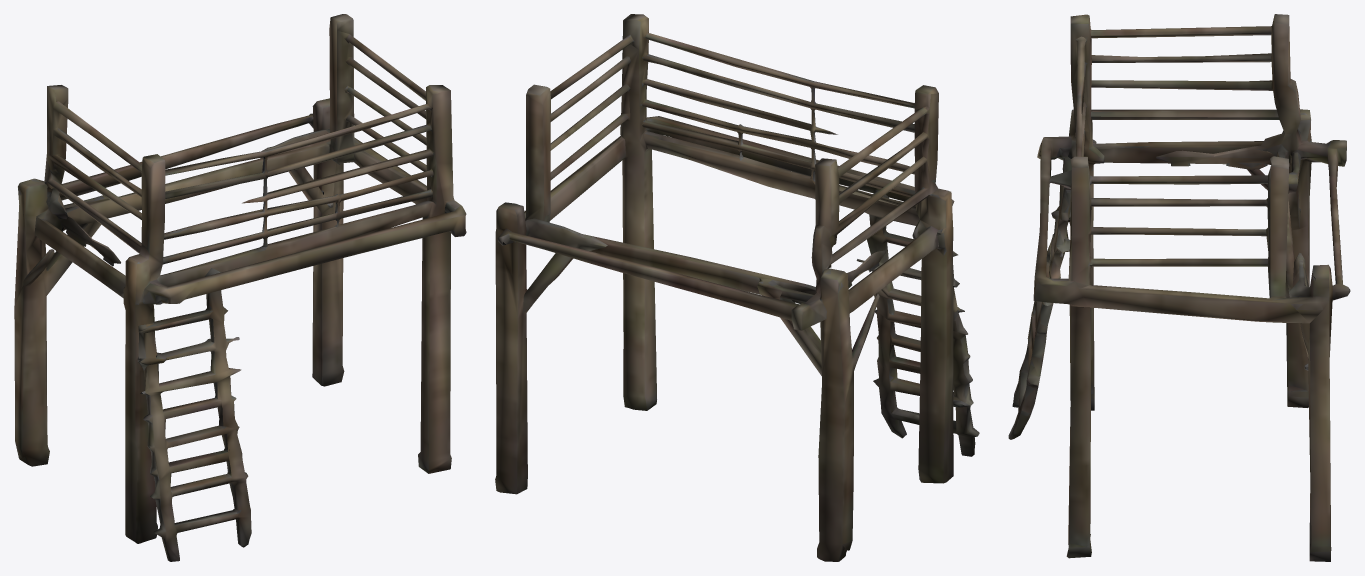
The model's file is simple-wood-scaffold-tower-v004.glb.
3 views of the same model, side by side, from view 1: azimuth 30°, elevation 25°; view 2: azimuth 150°, elevation 25°; view 3: azimuth 270°, elevation 25° (orthographic). The views are drawn at different scales.
Parts seen in each view (by area): view 1: simple-wood-scaffold-tower; view 2: simple-wood-scaffold-tower; view 3: simple-wood-scaffold-tower.
Part boxes in pixels (x1,y1,x2,y2): simple-wood-scaffold-tower: [14, 14, 466, 561]; simple-wood-scaffold-tower: [495, 14, 979, 561]; simple-wood-scaffold-tower: [1008, 14, 1350, 561].
Size of the model in its own units: 2.83 by 3.08 by 2.41.
1 material, 1 textured.
